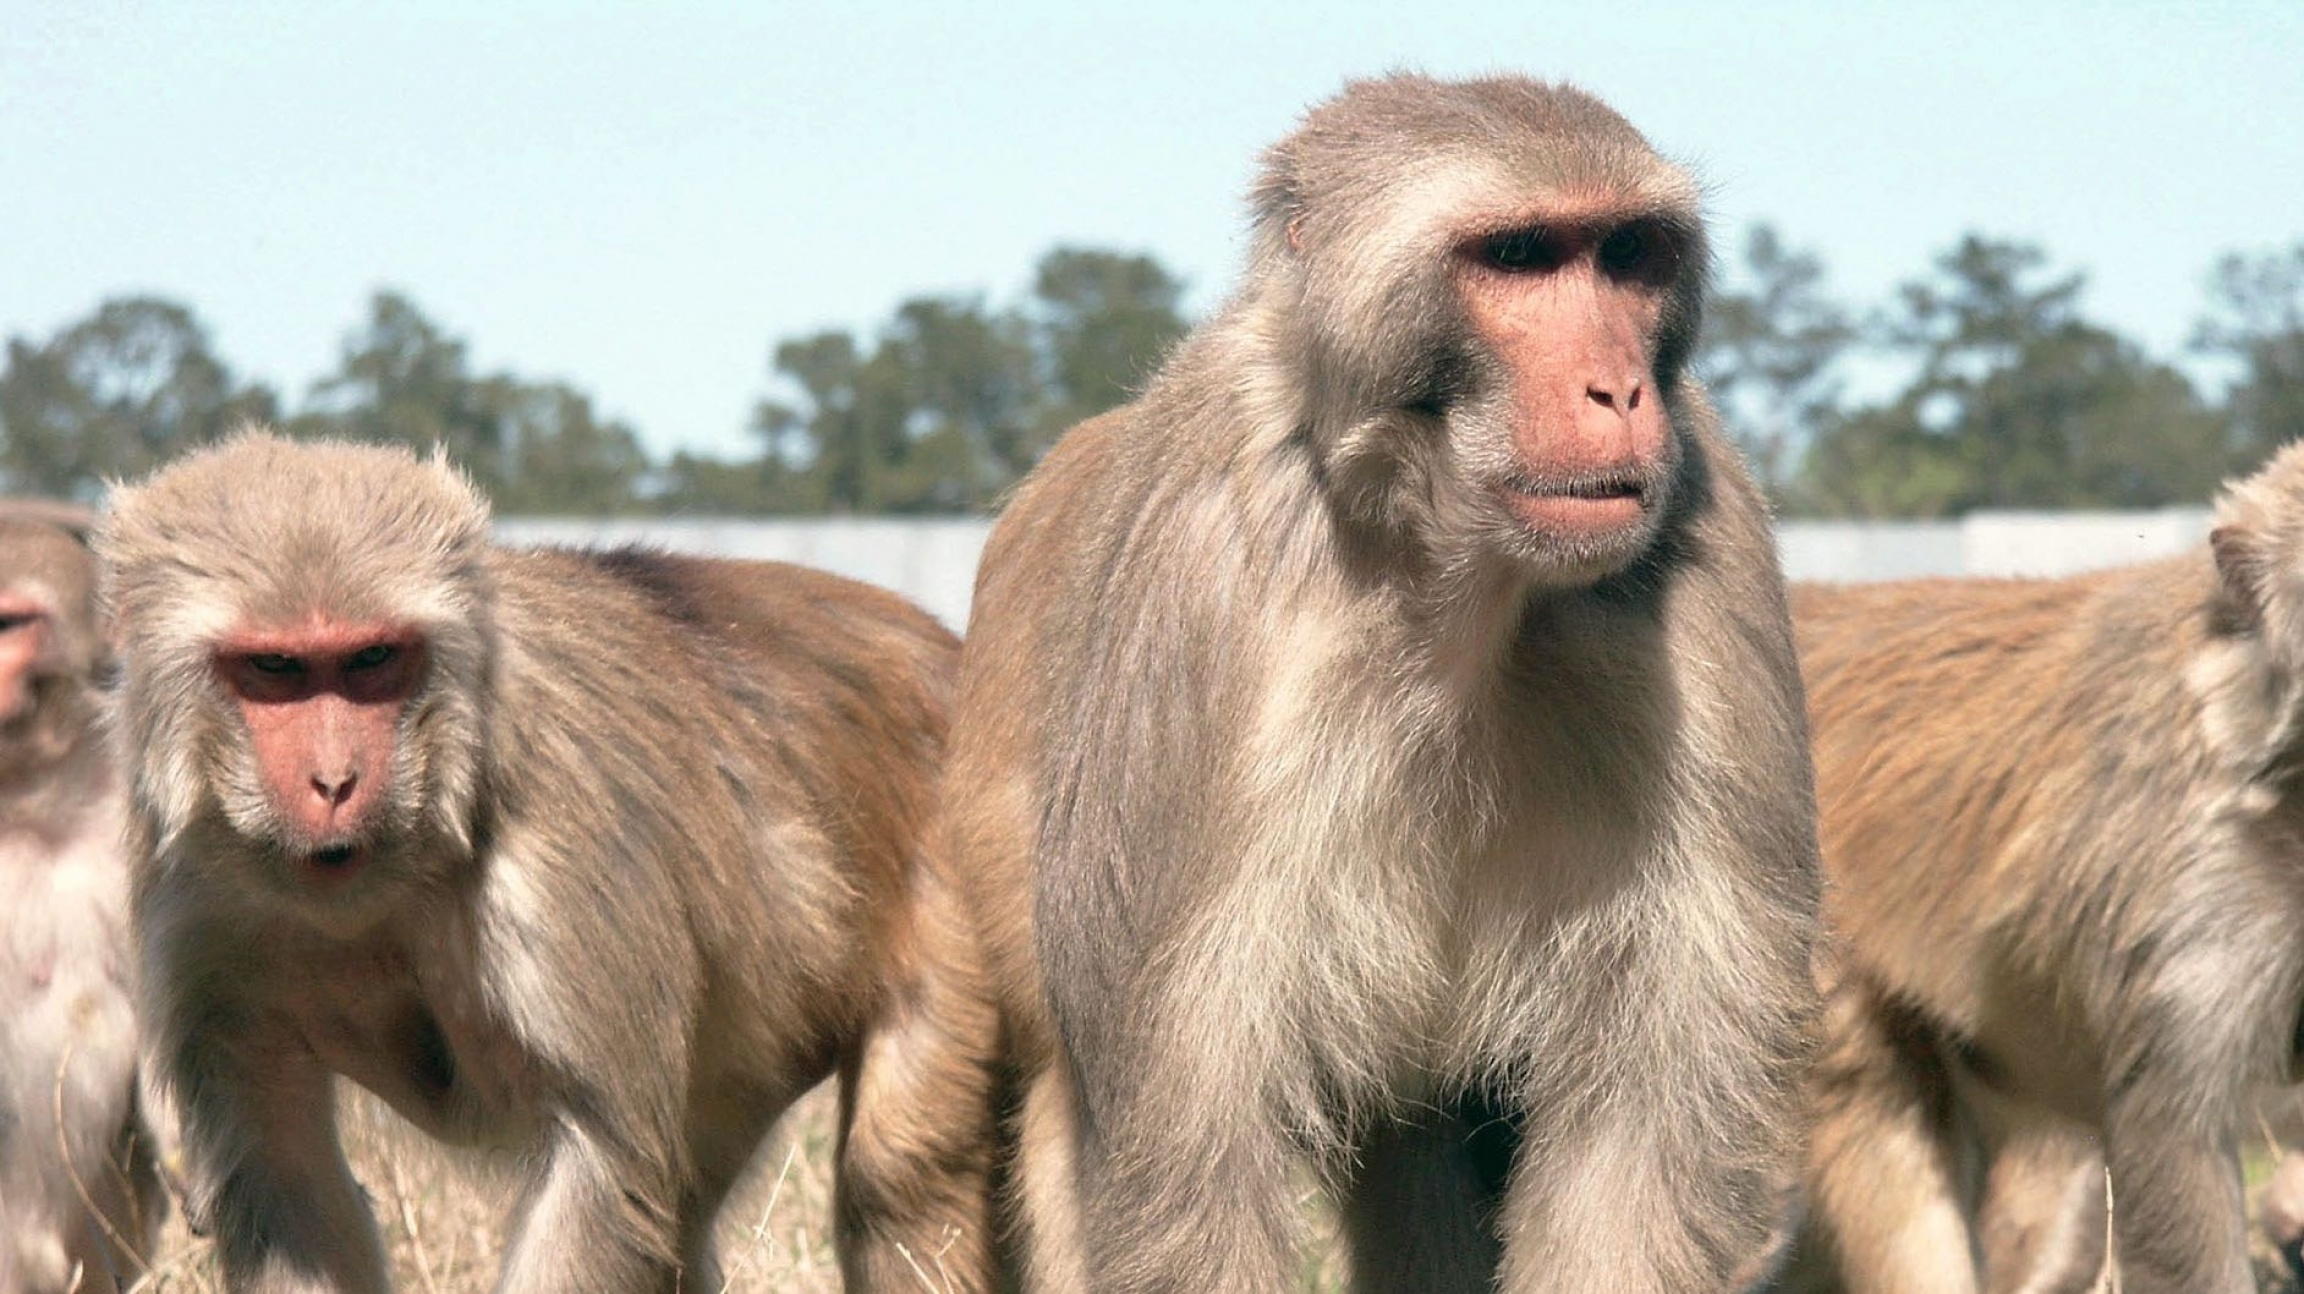monkey: (826, 47, 1828, 1294), (71, 403, 1005, 1294)
